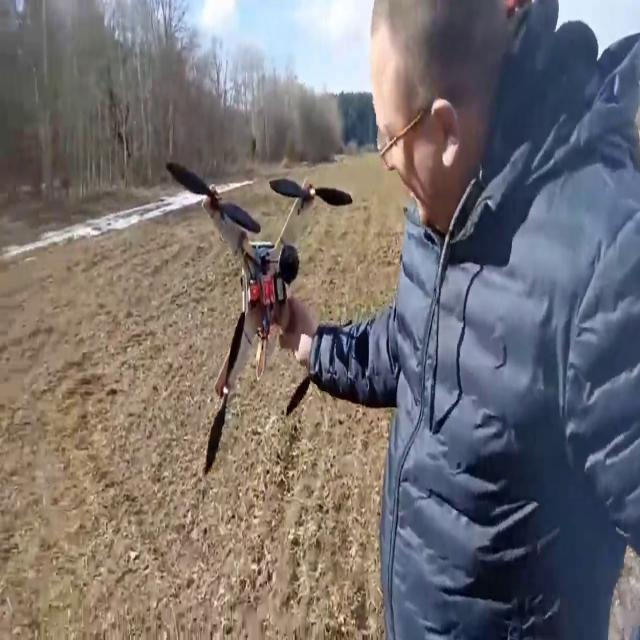Drons: (156, 153, 352, 484)
